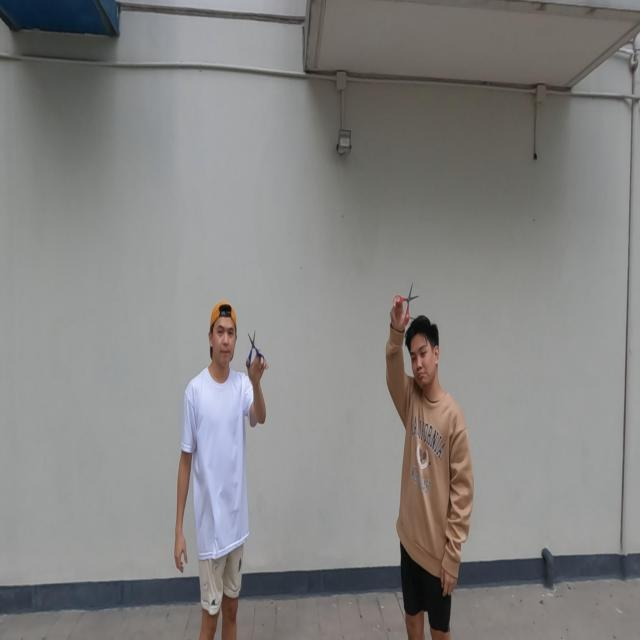scissor: (393, 281, 419, 329), (245, 328, 266, 371)
